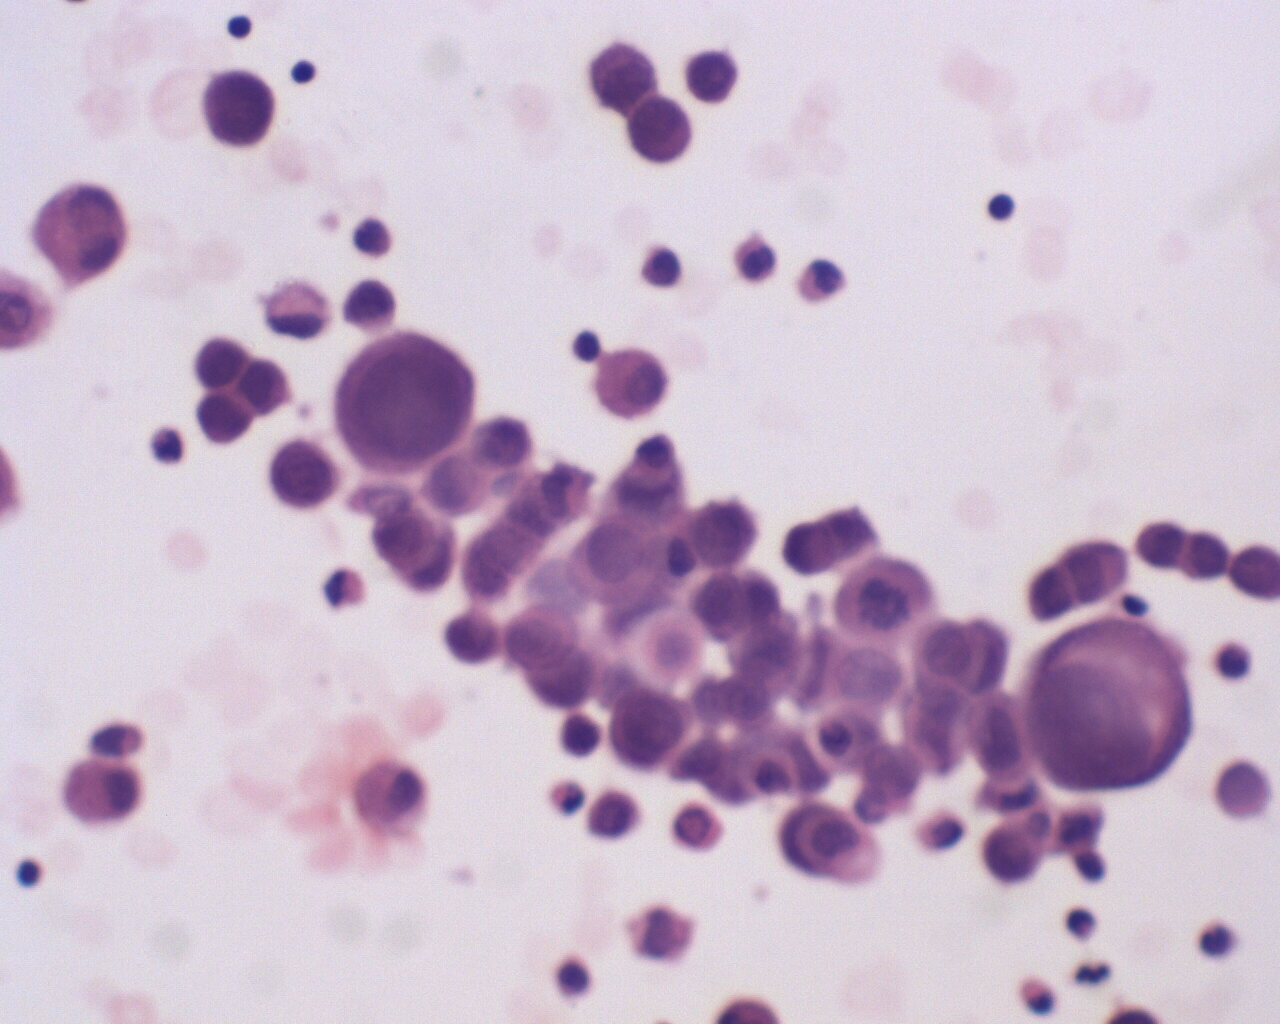ab: (1034, 619, 1198, 795), (333, 330, 481, 480), (830, 548, 936, 652), (609, 680, 691, 773), (201, 66, 279, 152), (265, 436, 344, 513), (688, 487, 761, 568), (587, 37, 659, 114), (625, 95, 696, 169)
lymph: (978, 189, 1025, 226), (282, 53, 320, 88)
meso: (590, 347, 673, 426)
neutro: (795, 257, 846, 309)
